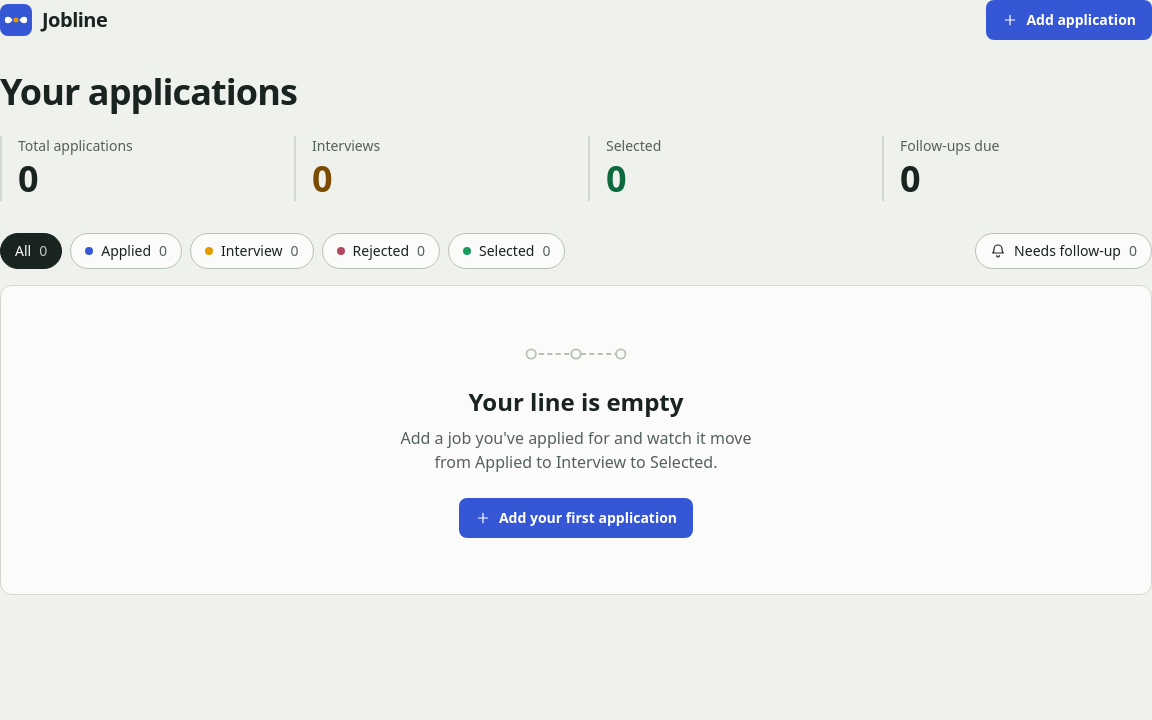
Test: Jobline UI › restores the row if a delete fails
This screenshot has width=1152, height=720.
Expected: the heading "Your line is empty" is shown, x1=469 y1=386 x2=684 y2=418
Click the button "Add application" at (1069, 20), box x1=986 y1=0 x2=1151 y2=40
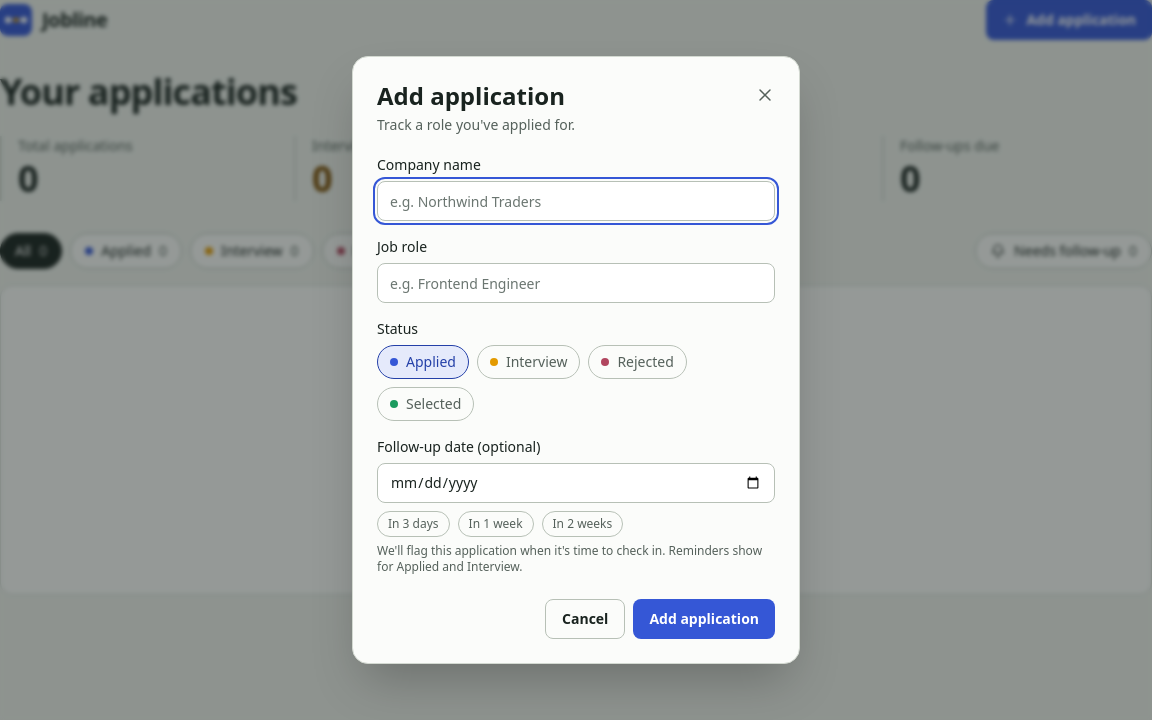
Type "Hooli" into the field labelled "Company name" at (576, 201), box x1=377 y1=181 x2=775 y2=221
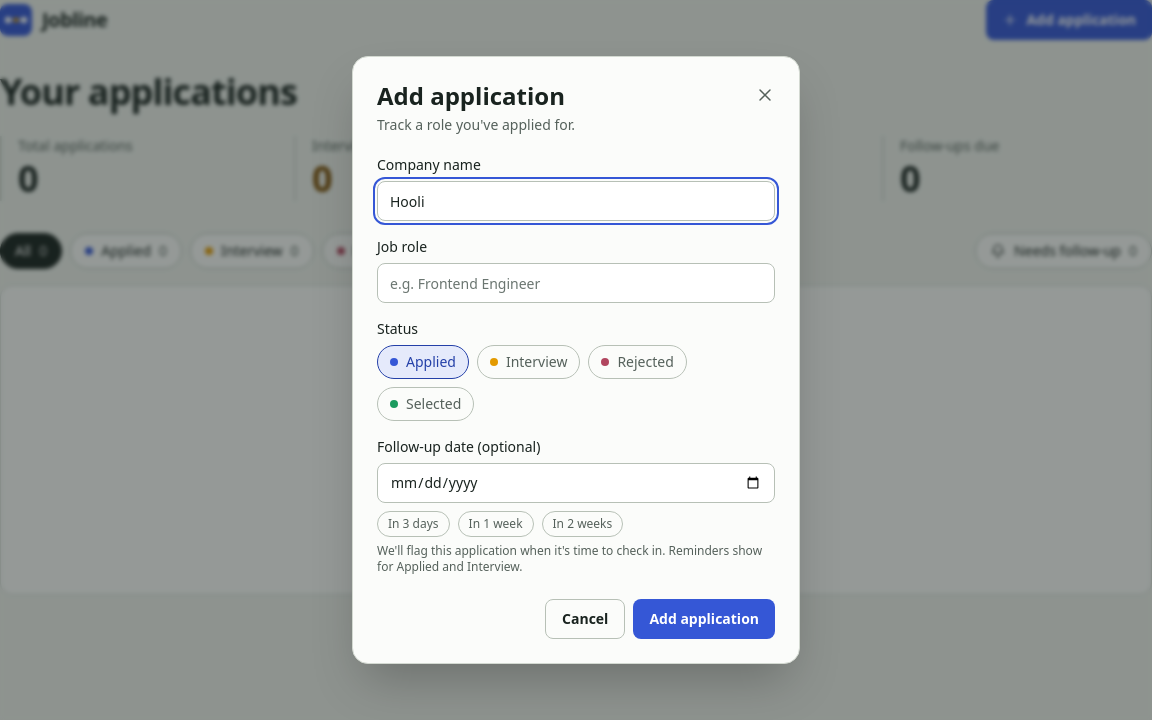
Type "SRE" into the field labelled "Job role" at (576, 283), box x1=377 y1=263 x2=775 y2=303
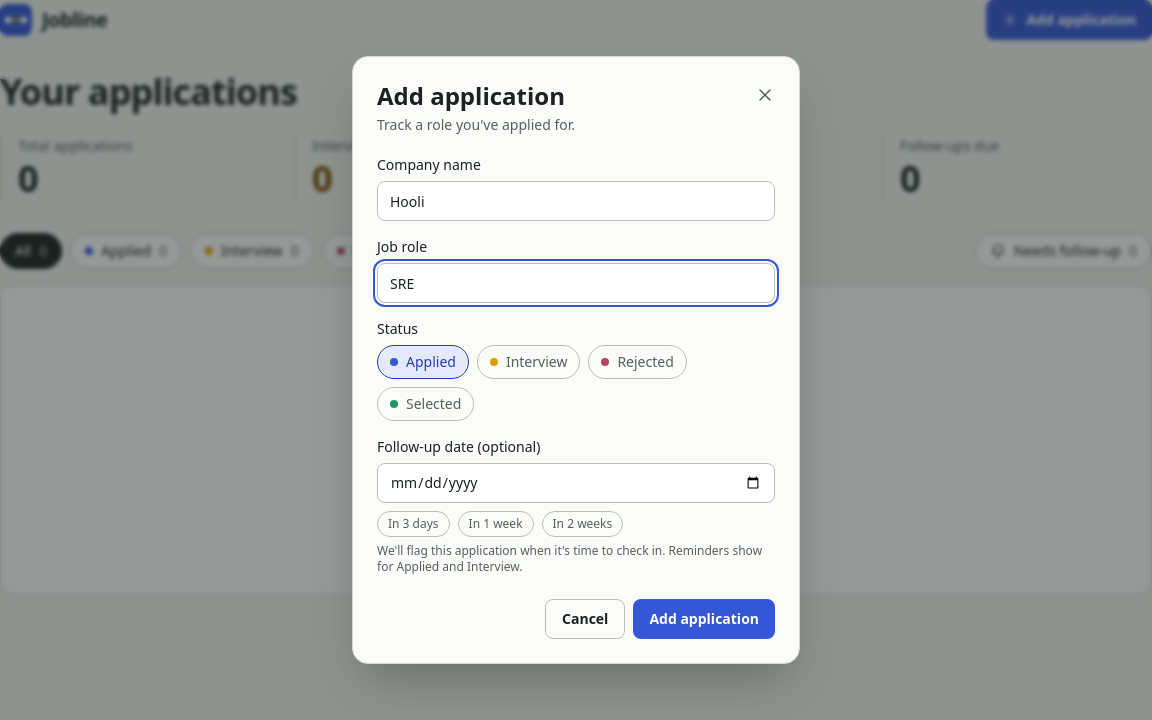
Click the button "Add application" at (704, 619), box x1=633 y1=599 x2=775 y2=639
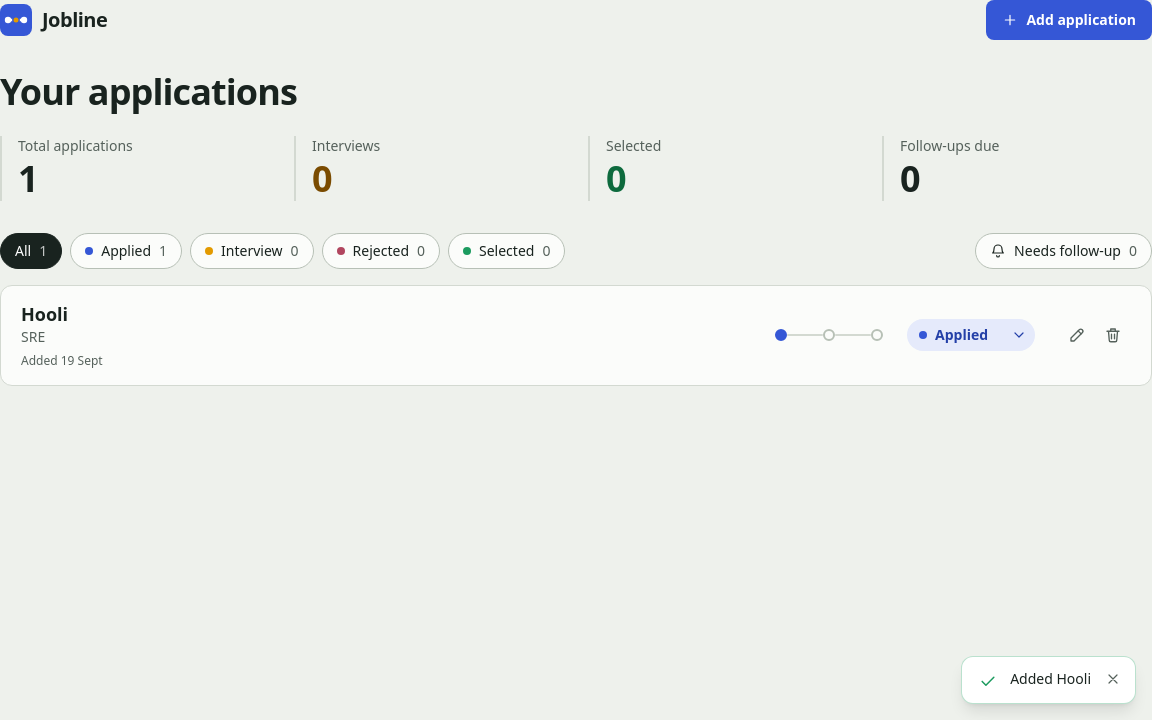
Result: the dialog is gone
Click the button named "Delete Hooli" at (1113, 335), box x1=1095 y1=317 x2=1131 y2=353
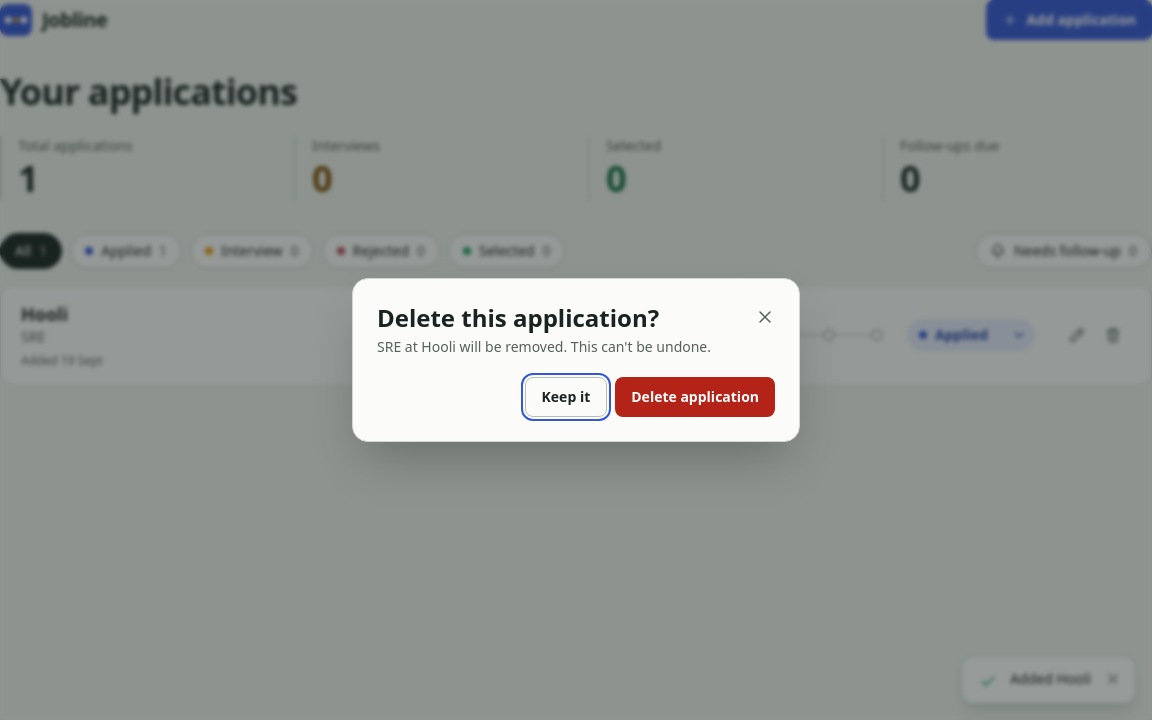
Click the button "Delete application" at (695, 397), box x1=615 y1=377 x2=775 y2=417
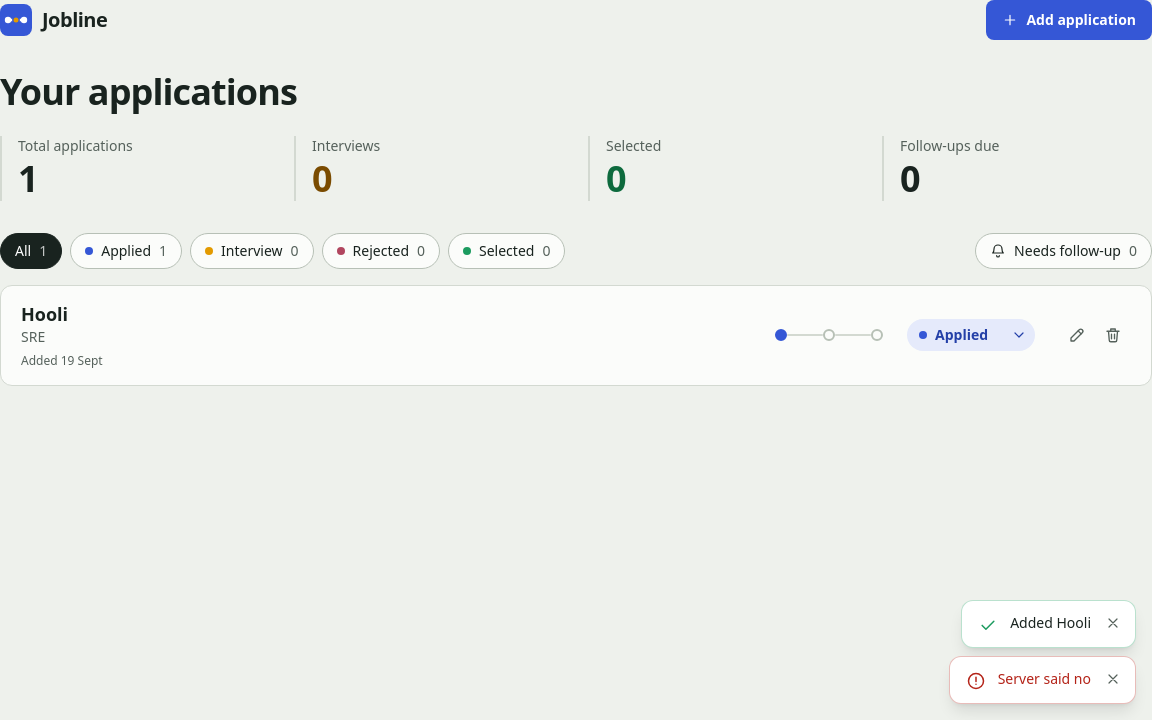
Result: the text "Hooli" is shown at x1=21 y1=302 x2=68 y2=326
Result: the text "Server said no" is shown at x1=998 y1=669 x2=1091 y2=689
